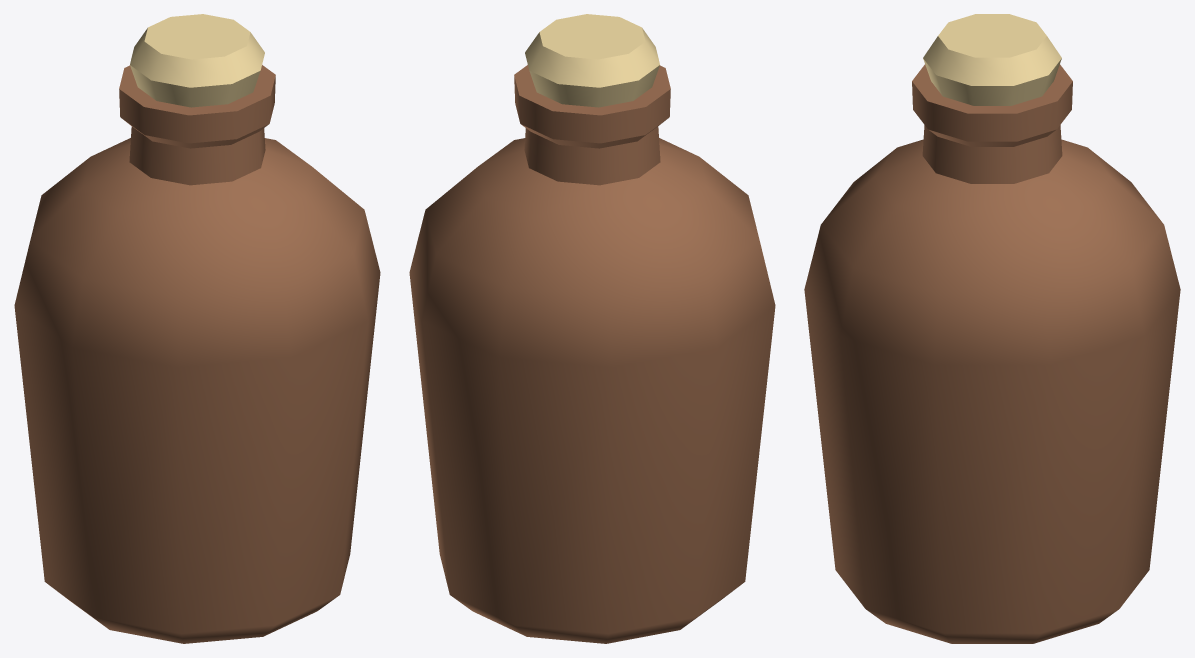
File: Bottle_K.fbx
The picture shows the model from 3 angles, left to right: view 1: azimuth 30°, elevation 25°; view 2: azimuth 150°, elevation 25°; view 3: azimuth 270°, elevation 25°; orthographic projection.
Visible parts, largest first — view 1: Bottle_K; view 2: Bottle_K; view 3: Bottle_K.
Part boxes in pixels (x1,y1,x2,y2): Bottle_K: [14, 14, 380, 643]; Bottle_K: [409, 14, 775, 643]; Bottle_K: [804, 14, 1180, 643].
Bounding box in the file's own units: 21.43 × 36.68 × 22.53.
